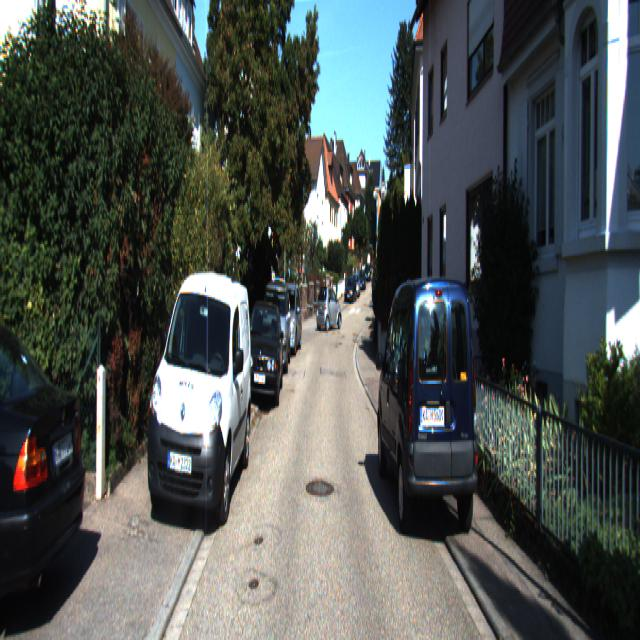Car: (0, 307, 100, 638), (142, 248, 255, 532), (376, 274, 485, 555), (243, 300, 285, 410), (260, 277, 292, 377), (272, 284, 304, 358), (316, 286, 342, 334)
